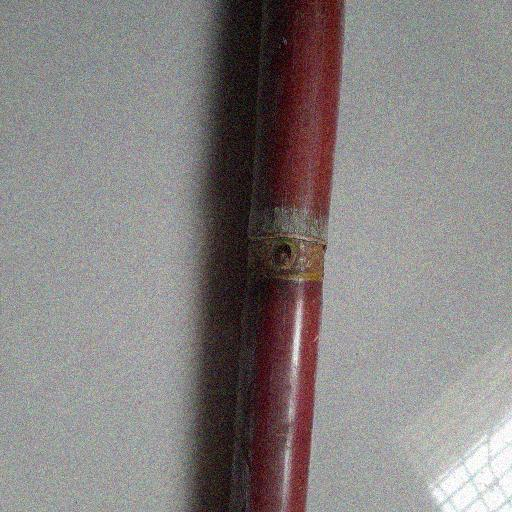Bud: (270, 244, 294, 270)
